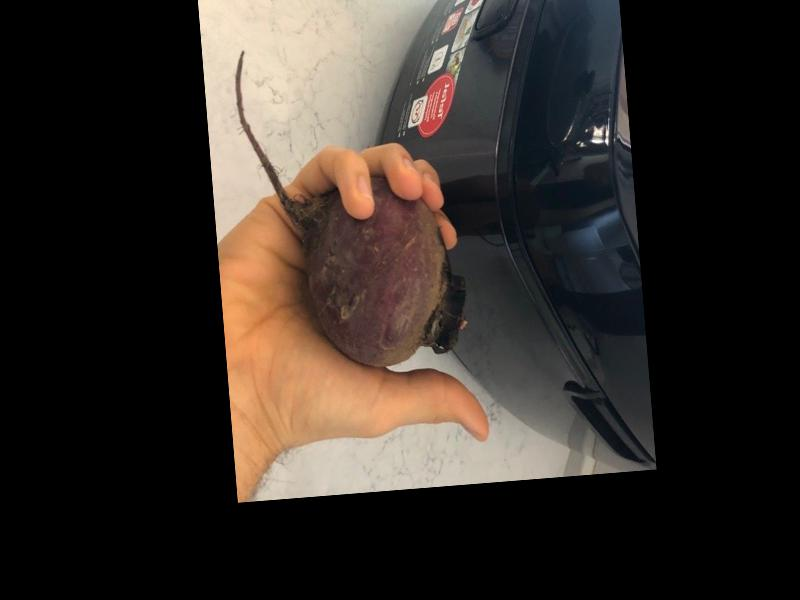Beet: (231, 33, 471, 376)
